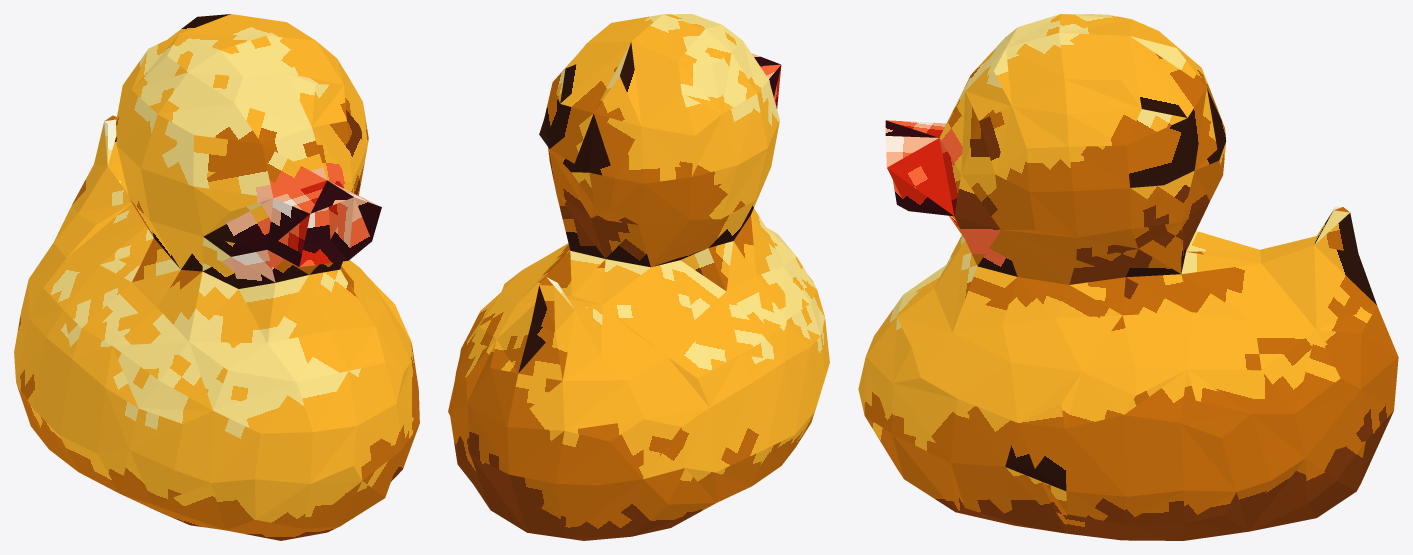
File: rubber_duck.glb
The picture shows the model from 3 angles, left to right: view 1: azimuth 30°, elevation 25°; view 2: azimuth 150°, elevation 25°; view 3: azimuth 270°, elevation 25°; orthographic projection. The views are drawn at different scales.
Visible parts, largest first — view 1: mesh; view 2: mesh; view 3: mesh.
Boxes of the visible parts, x1,y1,x2,y2 form: mesh: (14,14,419,540); mesh: (448,14,829,540); mesh: (858,14,1398,540).
Bounding box in the file's own units: 11.93 × 16 × 16.87.
Materials: 1 (1 with a texture image).
